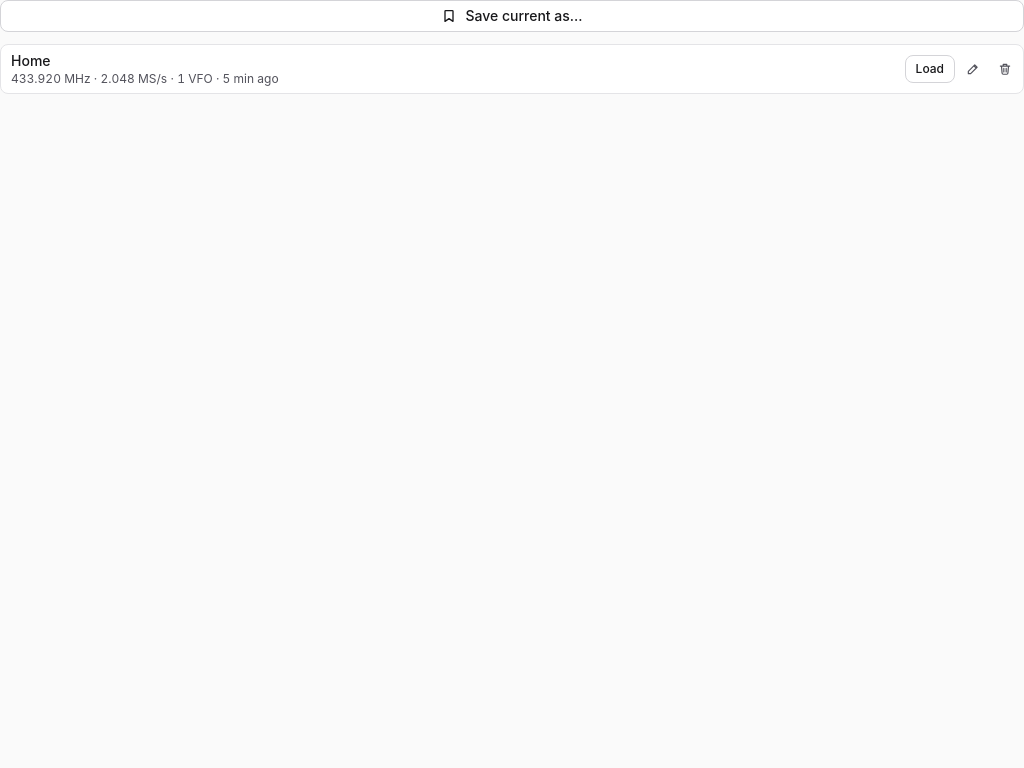
Test: ProfilesPanel › closes dialogs with Escape
Expected: the text "Home" is shown, [11,51,50,71]
Click the button named "Delete profile Home". click: (1005, 69)
box: [991,55,1019,83]
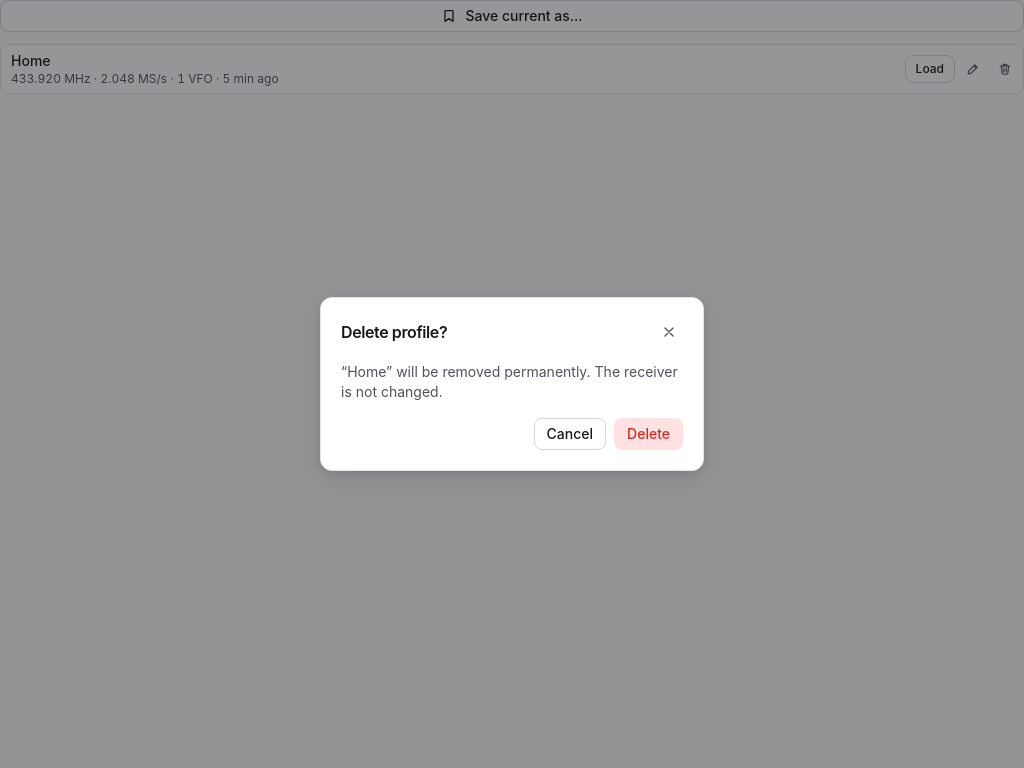
Press Escape
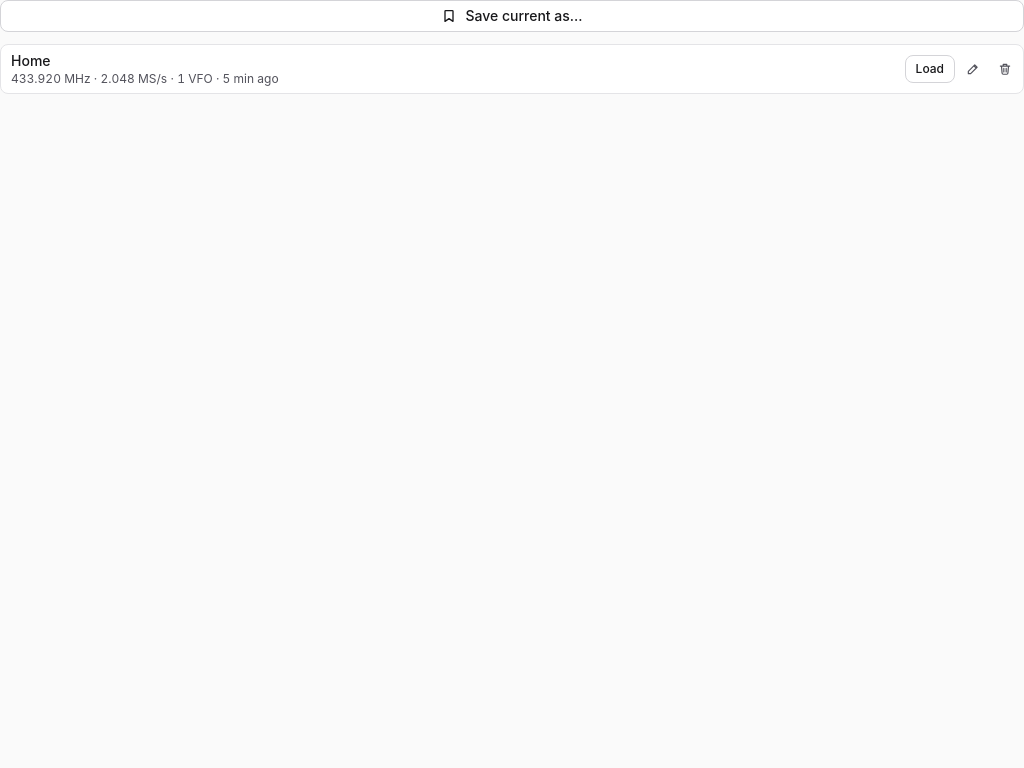
Expected: the dialog is gone
